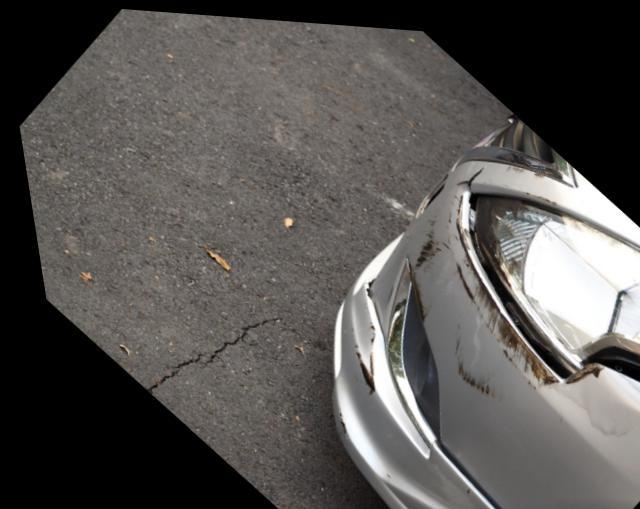crack: (449, 155, 480, 186)
dislocated part: (318, 182, 640, 509)
scratch: (404, 182, 624, 432), (340, 296, 365, 393)
